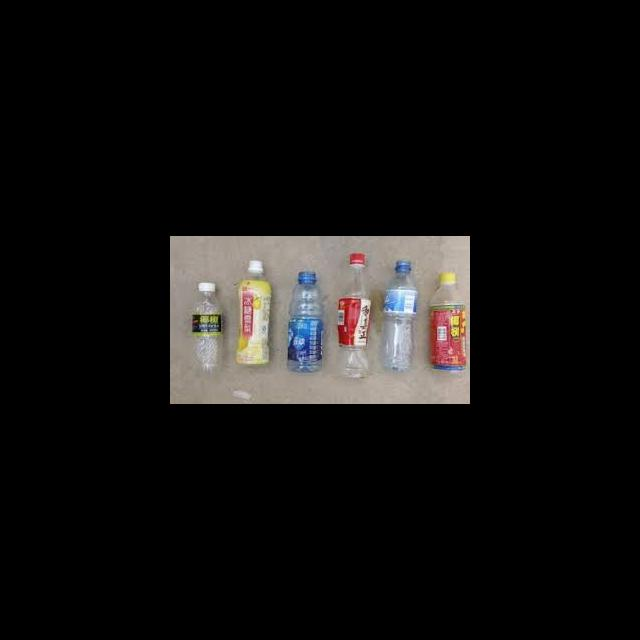plastic: (335, 252, 370, 378), (381, 259, 417, 372), (428, 271, 465, 377), (234, 258, 270, 364), (287, 269, 323, 372), (189, 282, 223, 372), (235, 279, 268, 364), (429, 303, 466, 371), (286, 316, 322, 362), (336, 297, 369, 347), (381, 287, 417, 314), (191, 314, 222, 336), (348, 252, 364, 265), (246, 259, 262, 272), (197, 281, 215, 292), (439, 271, 454, 284)
